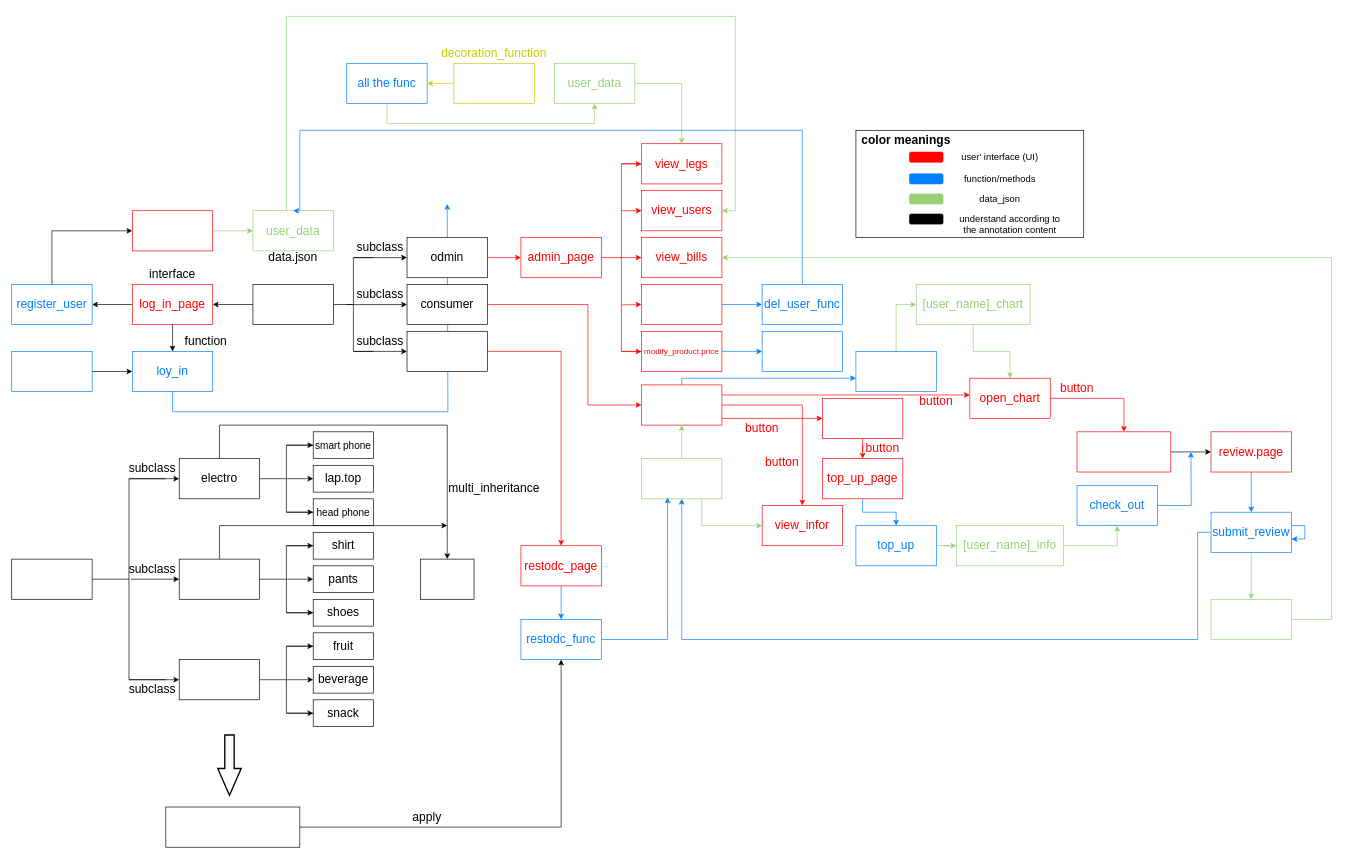
Some shapes in this 1349 by 859 pixel diagram are drawn without their labels. Here are the shapes that lost their labels. From the top down, the centre of each, then its label:
At (x=493, y=83): "log_func_call".
At (x=172, y=230): "register_page".
At (x=292, y=304): "user".
At (x=681, y=304): "del_user".
At (x=51, y=371): "get_user_type".
At (x=446, y=351): "seller".
At (x=802, y=351): "del_user_function".
At (x=895, y=371): "add_to_chort".
At (x=681, y=404): "product_page".
At (x=862, y=418): "open_my_info".
At (x=1123, y=451): "check_out_page".
At (x=681, y=478): "product_data".
At (x=51, y=578): "product".
At (x=219, y=578): "clothing".
At (x=447, y=578): "smart watch".
At (x=1250, y=619): "bill".
At (x=219, y=679): "food_product".
At (x=232, y=826): "classification logic polymorphic attribute".
